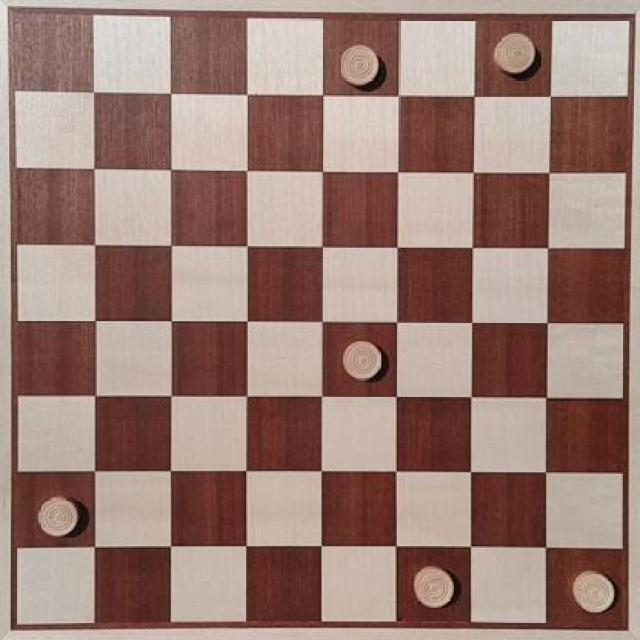BOARD: (11, 9, 630, 629)
white: (334, 26, 394, 103), (20, 478, 81, 547), (564, 557, 625, 620), (406, 558, 461, 619), (326, 327, 384, 382), (487, 24, 546, 74)
